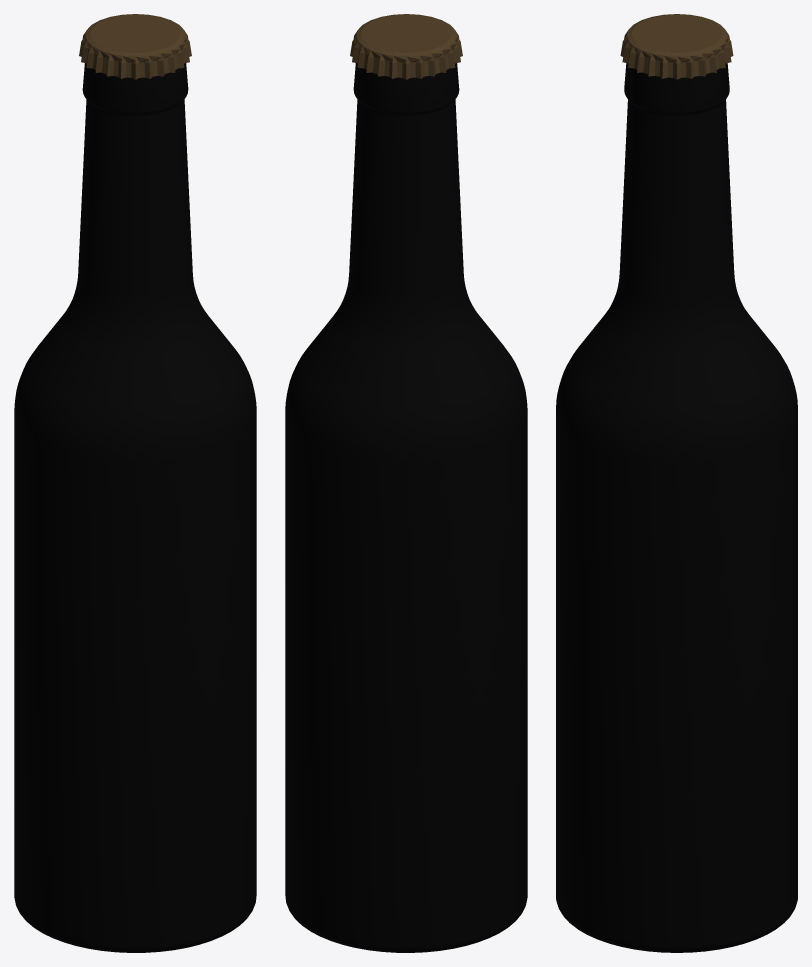
File: BEER-FBX.FBX
The picture shows the model from 3 angles, left to right: view 1: azimuth 30°, elevation 25°; view 2: azimuth 150°, elevation 25°; view 3: azimuth 270°, elevation 25°; orthographic projection.
Parts seen in each view (by area): view 1: Beer_Bottle_001, Cover; view 2: Beer_Bottle_001, Cover; view 3: Beer_Bottle_001, Cover.
Part boxes in pixels (box(x1,y1,x2,y2)): Beer_Bottle_001: box(14, 63, 256, 952); Cover: box(79, 14, 191, 79); Beer_Bottle_001: box(285, 63, 527, 952); Cover: box(350, 14, 462, 79); Beer_Bottle_001: box(556, 63, 797, 952); Cover: box(620, 14, 733, 79).
Bounding box in the file's own units: 58.62 × 233 × 58.5.
